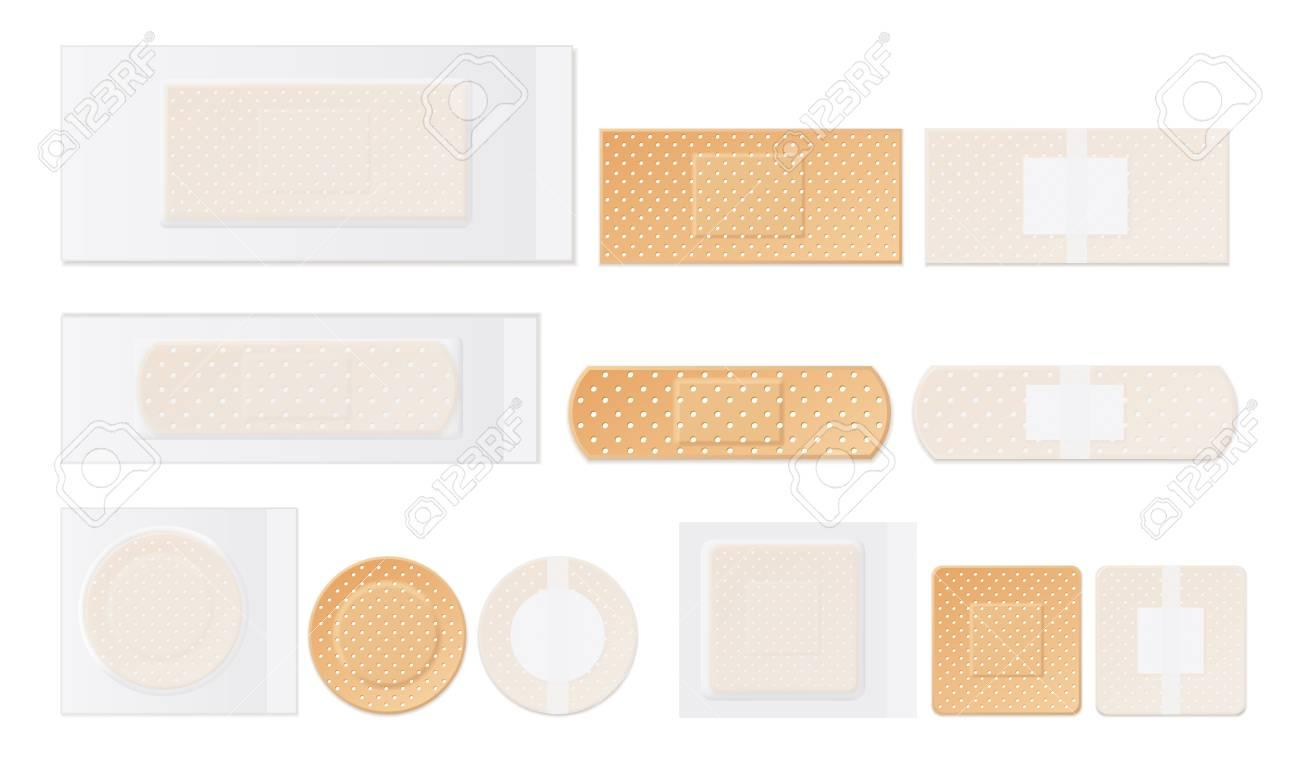bandage: (49, 44, 586, 273), (51, 304, 546, 471), (54, 499, 307, 717), (673, 507, 920, 727), (919, 119, 1234, 271), (594, 123, 913, 271), (909, 354, 1233, 473), (569, 360, 900, 466), (474, 544, 650, 730), (1091, 559, 1257, 723), (310, 551, 473, 717), (931, 553, 1086, 724)
